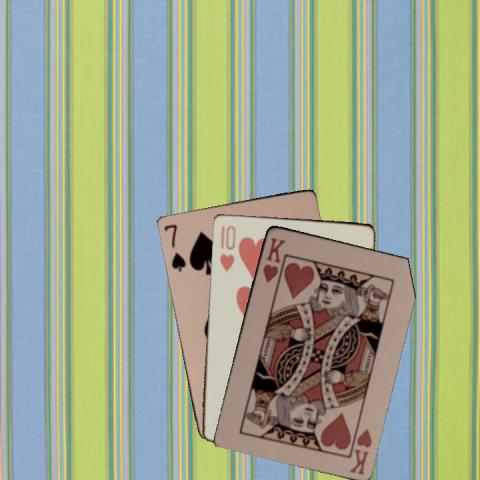10h: (216, 222, 236, 273)
7s: (161, 220, 187, 272)
Kh: (259, 234, 287, 284), (346, 425, 373, 476)
